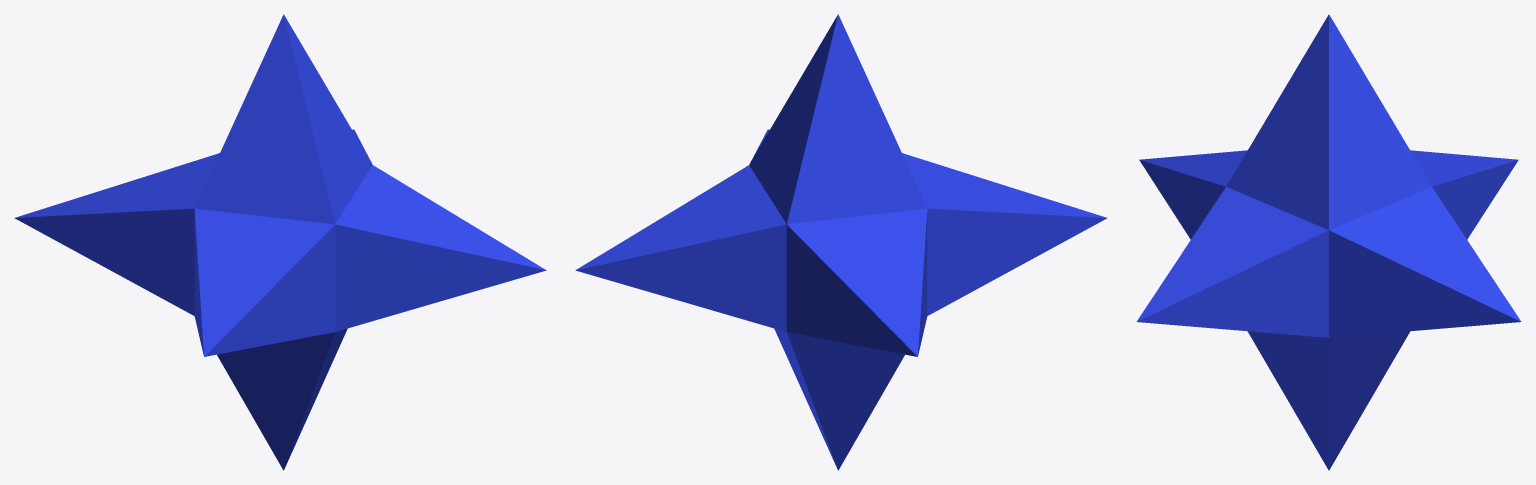
Rendered from bomb.glb.
3 renders of one model, left to right at view 1: azimuth 30°, elevation 25°; view 2: azimuth 150°, elevation 25°; view 3: azimuth 270°, elevation 25°, orthographic.
Visible parts, largest first — view 1: MainObject; view 2: MainObject; view 3: MainObject.
Boxes of the visible parts, box(x1,y1,x2,y2) form: MainObject: box(14, 14, 546, 470); MainObject: box(575, 14, 1107, 470); MainObject: box(1136, 14, 1521, 470).
Size of the model in its own units: 3.32 by 4.24 by 3.24.
